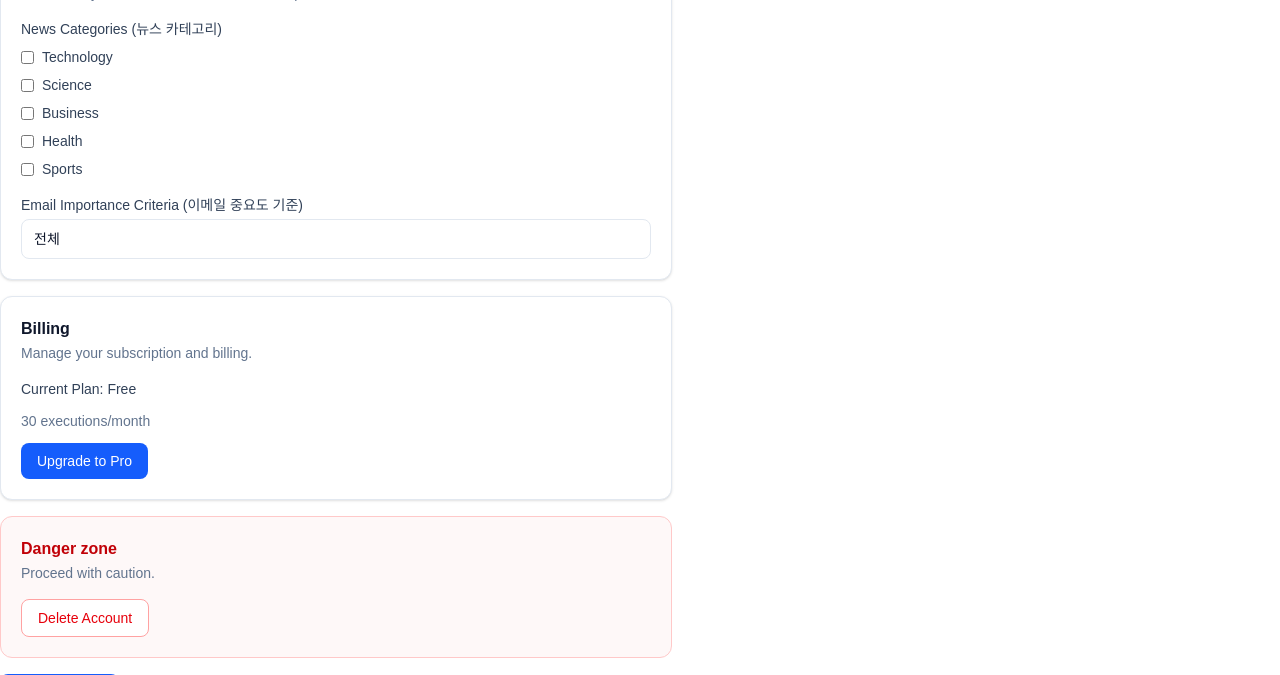
it: TC-7014: 계정 삭제 확인 → DELETE /api/account 호출 › 삭제 실패 시 에러 메시지 표시 — RED: API 미구현
The image size is (1280, 675).
(page scrolled)
Click the button "Delete Account": (85, 618) [21, 599, 149, 637]
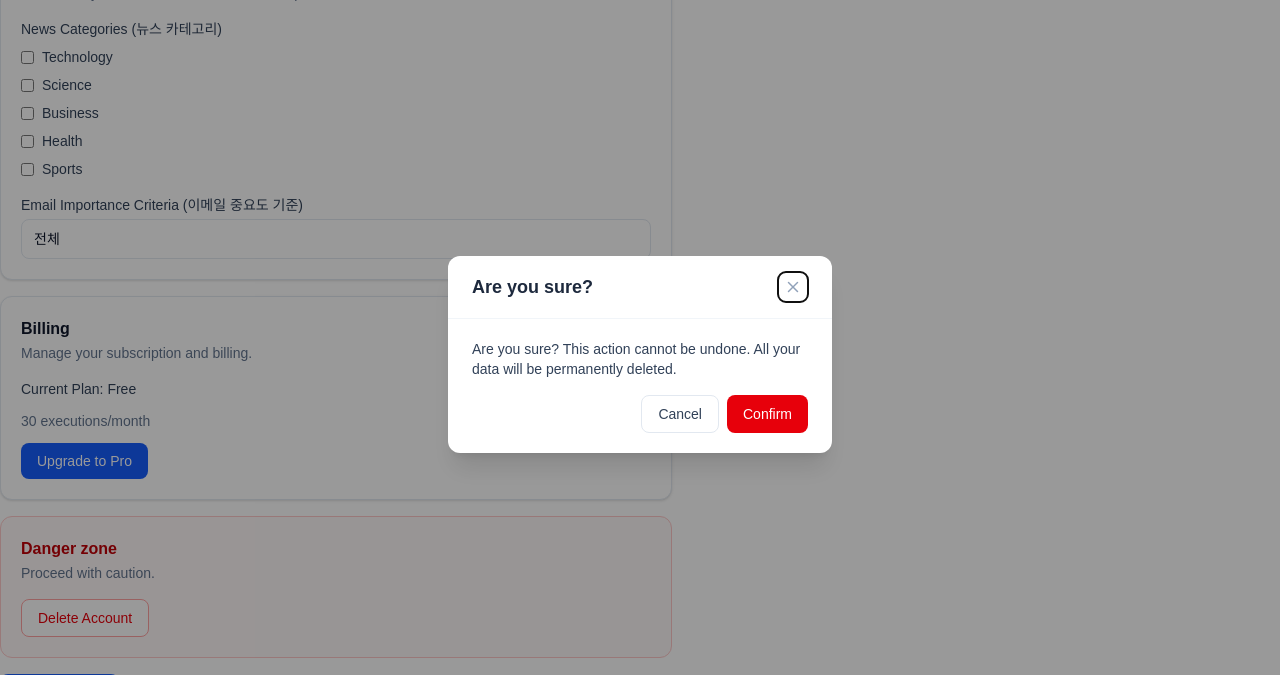
Check: the button "Confirm" is shown
Click the button "Confirm": (768, 414) [727, 394, 808, 432]
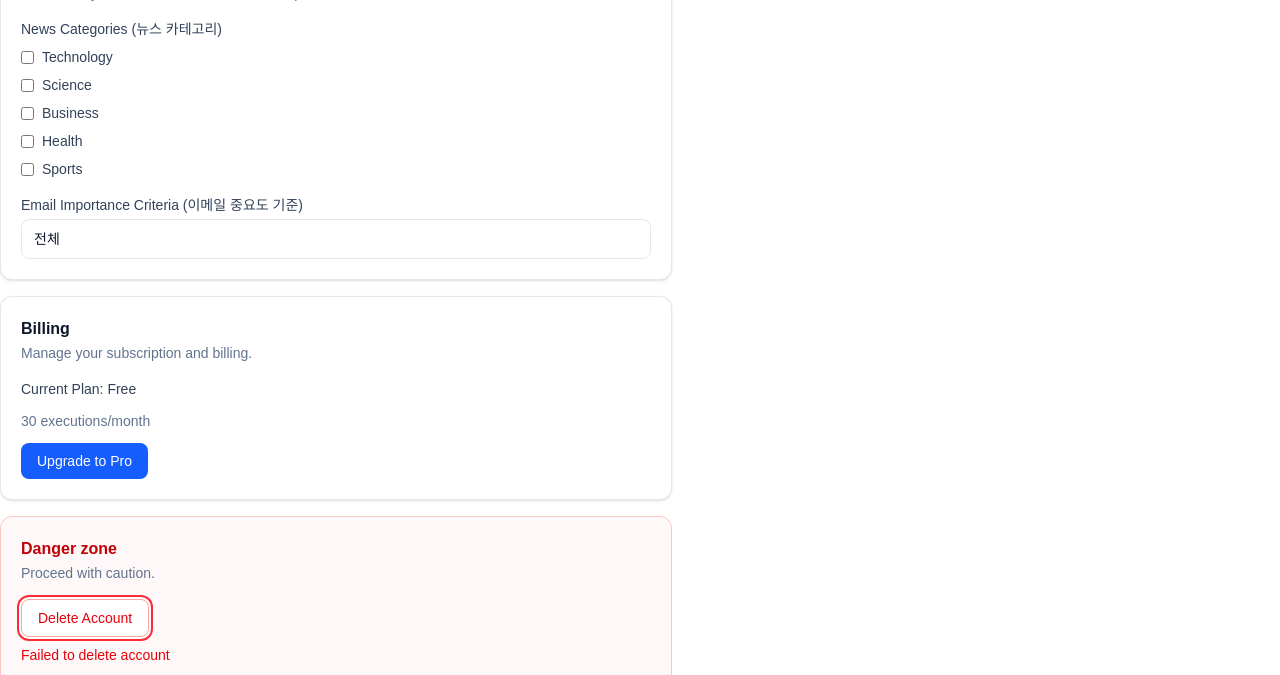
Check: the text "Failed to delete account" is shown, box [21, 647, 170, 663]
